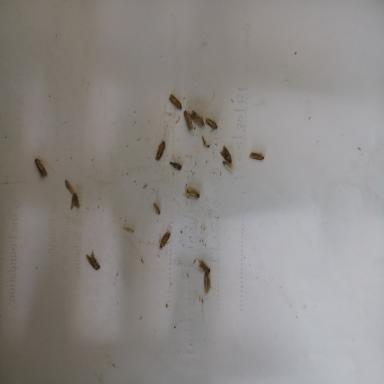pbw: (33, 156, 48, 178), (85, 250, 100, 270), (158, 227, 170, 249), (154, 139, 166, 160), (219, 145, 232, 163), (168, 93, 182, 109), (190, 110, 204, 126), (183, 109, 193, 131), (205, 118, 218, 134), (70, 192, 80, 209), (185, 187, 199, 199), (64, 178, 74, 194), (250, 151, 264, 161), (169, 161, 182, 170), (153, 202, 160, 214)
